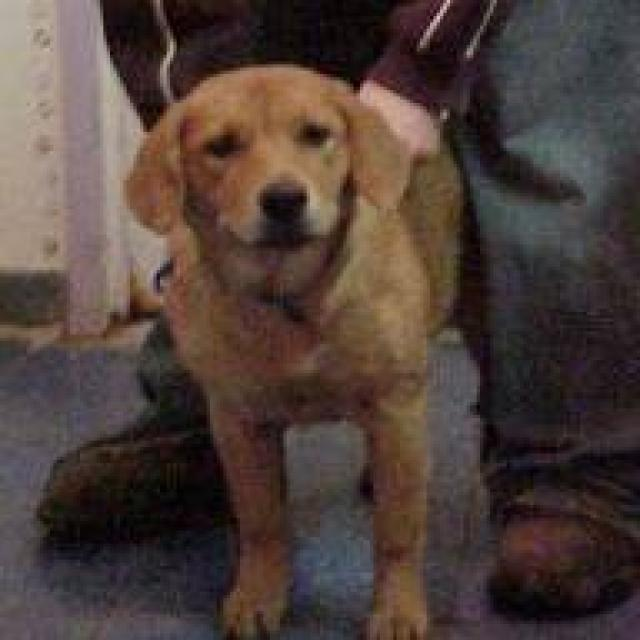dog: (120, 58, 467, 637)
